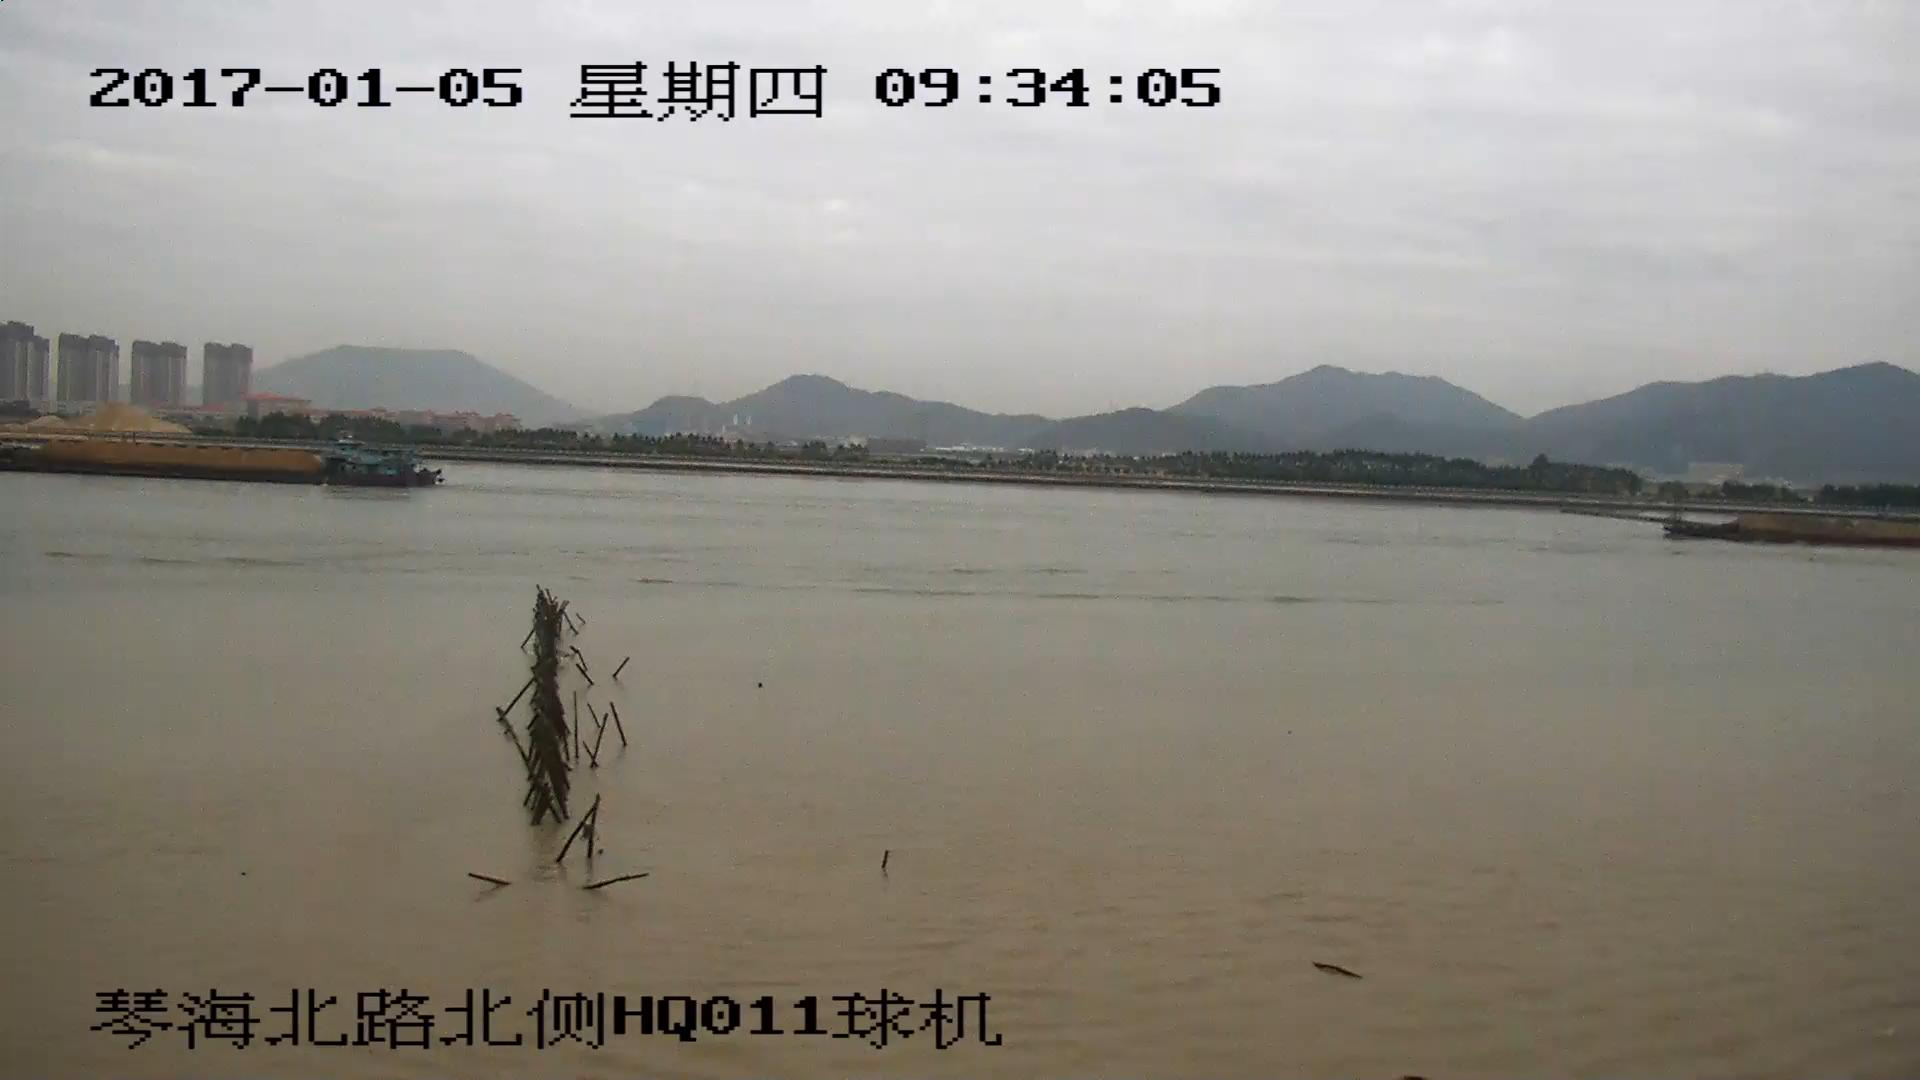ore carrier: (1, 433, 438, 486), (1568, 490, 1920, 542)
